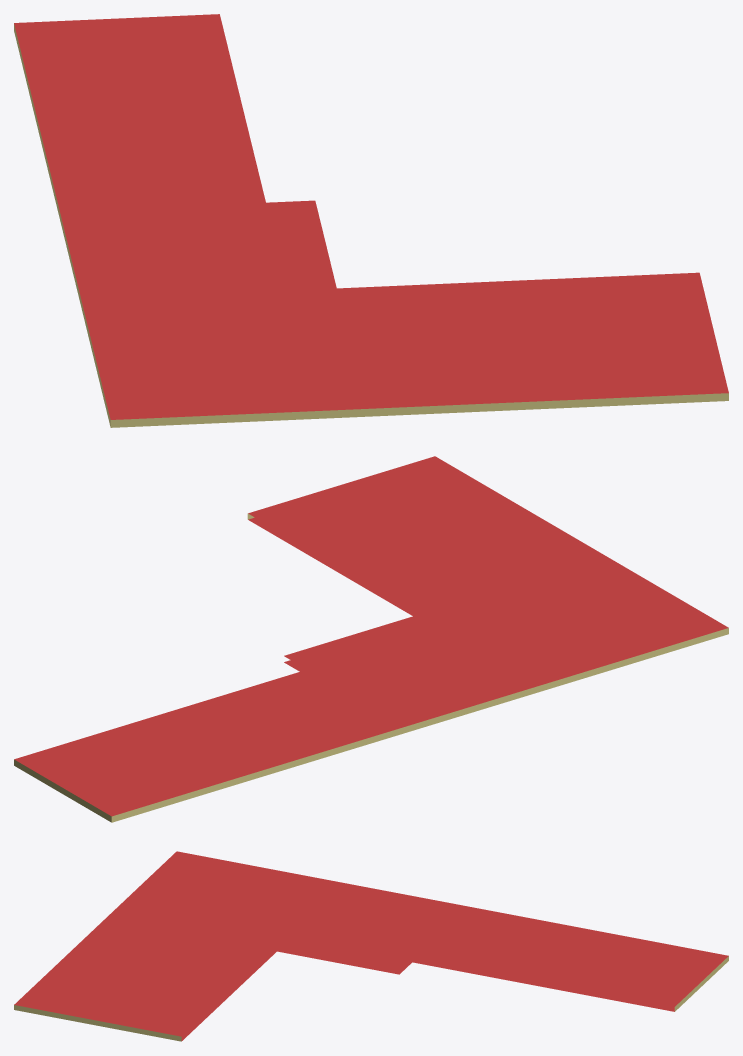
3 views of the same model, one above another, from view 1: azimuth 30°, elevation 25°; view 2: azimuth 150°, elevation 25°; view 3: azimuth 270°, elevation 25° (orthographic). The views are drawn at different scales.
Bounding box in the file's own units: 7.91 × 12.9 × 0.1.
